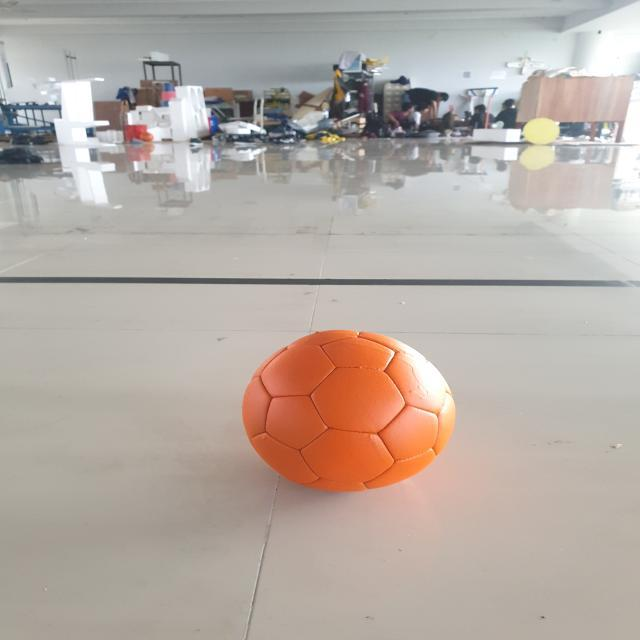bola: (212, 319, 513, 516)
